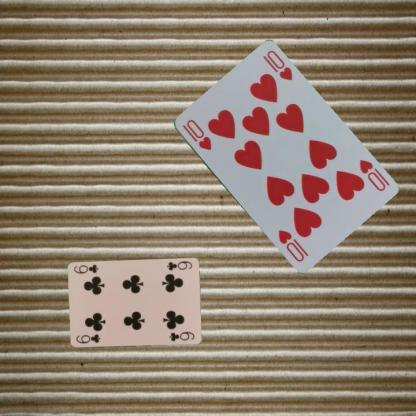10h: (179, 117, 213, 151), (356, 156, 387, 192)
6c: (164, 258, 193, 272), (73, 332, 101, 346)
